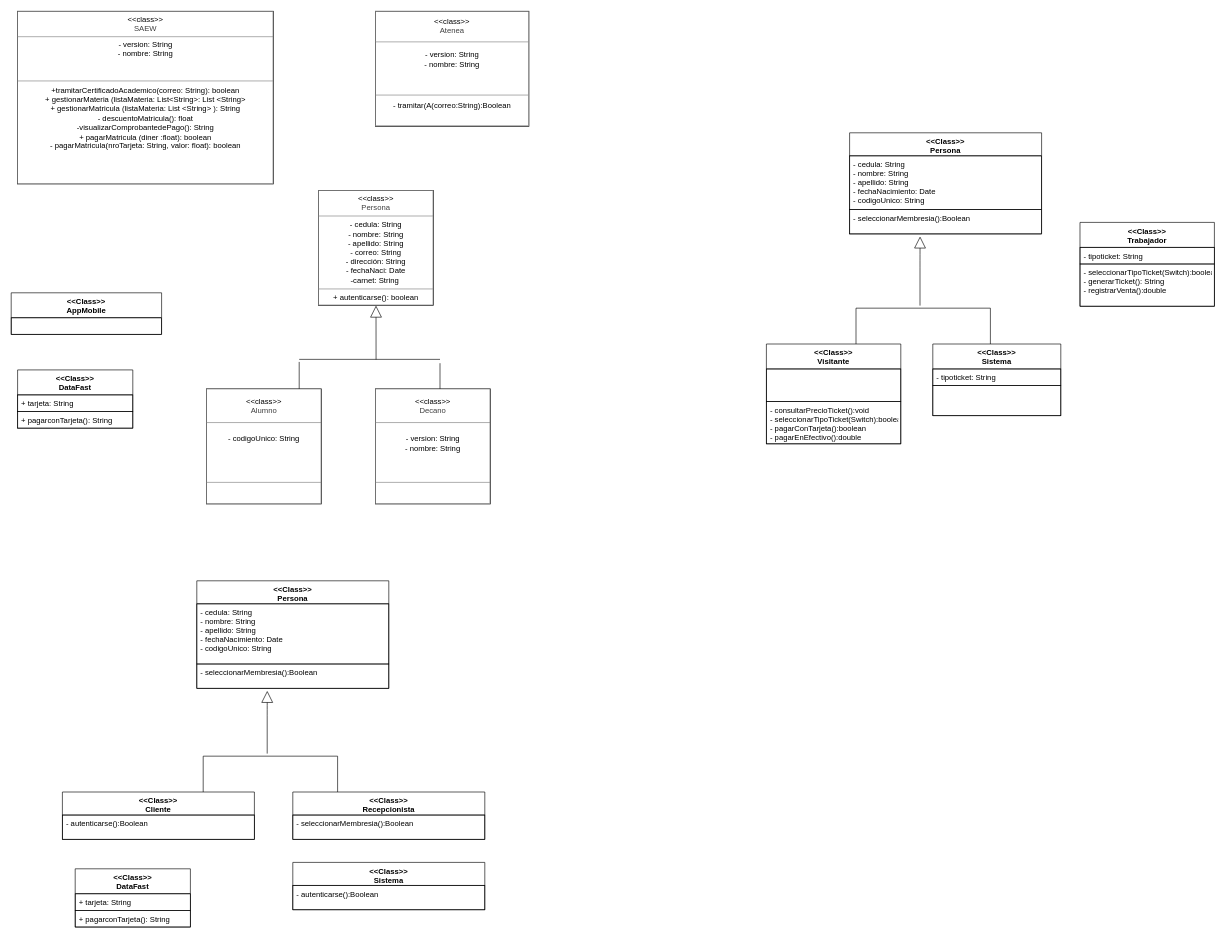
Image size: 1229x940. Some labels were removed from this diagram. Here are the shapes that lost their labels. From the top down, the box of each, then its label:
(11, 317, 162, 334): + visualizarInformacionAcademica(): void
(766, 368, 901, 402): - tarjeta: String - efectivo: int
(932, 385, 1061, 416): + generarTicket(): String
